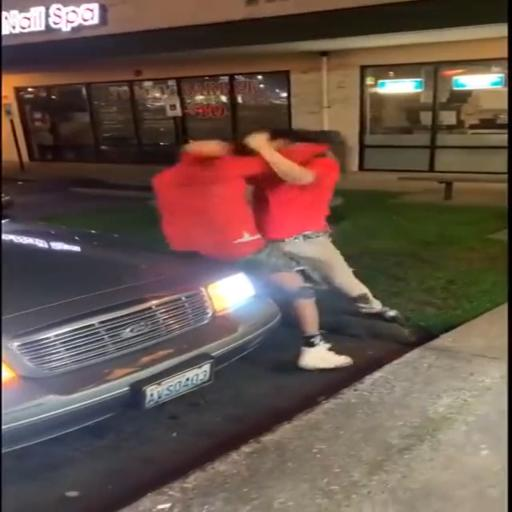violencia: (118, 112, 422, 375)
